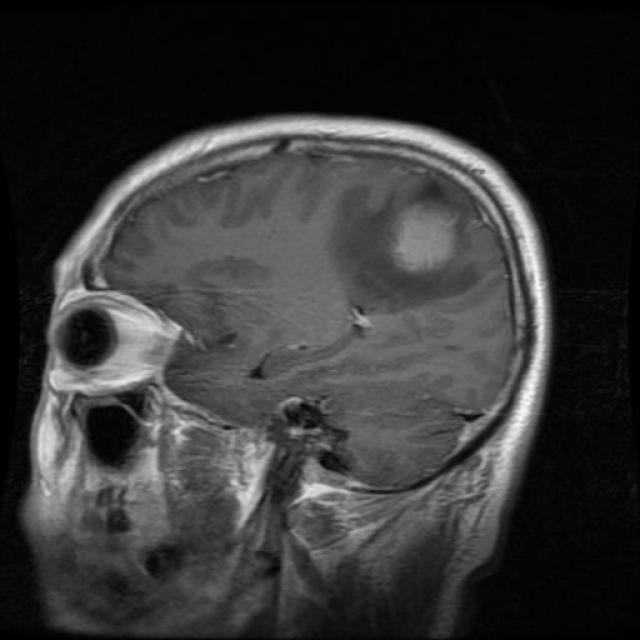Brain-Tumor: (341, 166, 506, 317)
eye: (47, 283, 178, 391)
